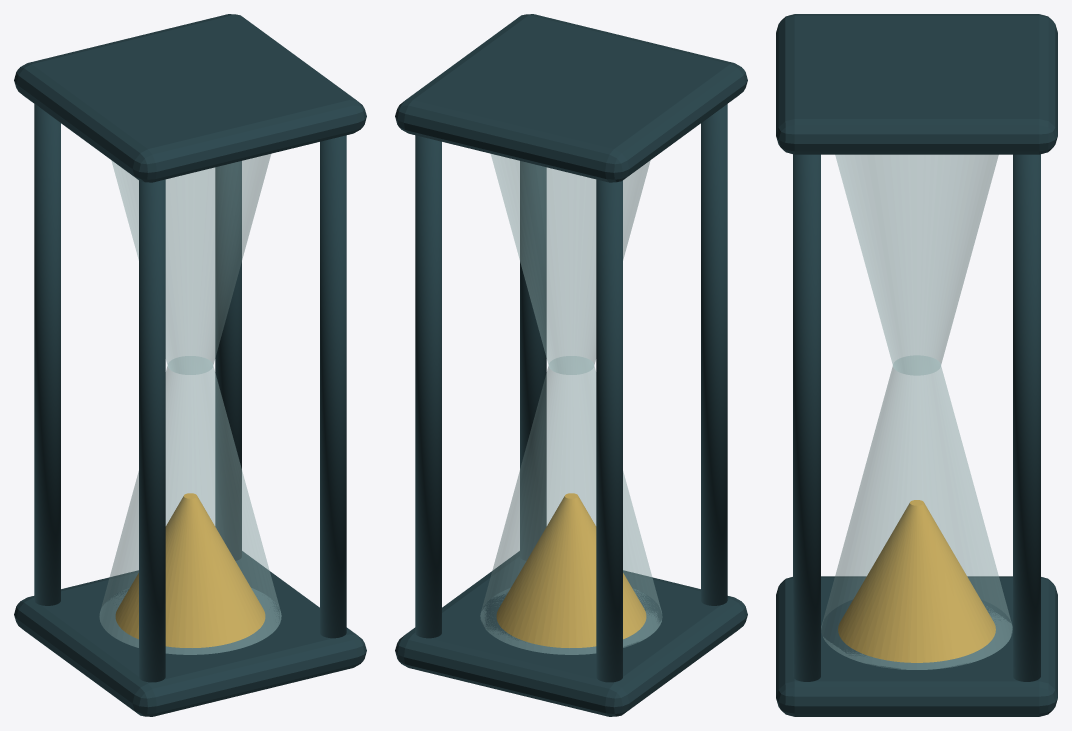
File: timer_3min.glb
3 renders of one model, left to right at view 1: azimuth 30°, elevation 25°; view 2: azimuth 150°, elevation 25°; view 3: azimuth 270°, elevation 25°, orthographic. The views are drawn at different scales.
Parts seen in each view (by area): view 1: timer_top, timer_glass_lower, timer_bottom, timer_glass_upper, timer_post_-1_-1, timer_post_1_-1, timer_post_-1_1, timer_sand, timer_post_1_1; view 2: timer_top, timer_glass_lower, timer_bottom, timer_glass_upper, timer_post_-1_1, timer_post_1_1, timer_post_-1_-1, timer_sand, timer_post_1_-1; view 3: timer_top, timer_glass_lower, timer_glass_upper, timer_bottom, timer_sand, timer_post_1_-1, timer_post_1_1.
Boxes of the visible parts, box(x1,y1,x2,y2) form: timer_top: box(14, 14, 366, 182); timer_glass_lower: box(99, 356, 281, 654); timer_bottom: box(14, 551, 366, 716); timer_glass_upper: box(111, 154, 270, 374); timer_post_-1_-1: box(139, 179, 165, 682); timer_post_1_-1: box(320, 135, 346, 638); timer_post_-1_1: box(34, 104, 60, 605); timer_sand: box(115, 493, 265, 647); timer_post_1_1: box(215, 161, 241, 560); timer_top: box(395, 14, 747, 182); timer_glass_lower: box(480, 356, 662, 654); timer_bottom: box(395, 551, 747, 716); timer_glass_upper: box(491, 154, 650, 374); timer_post_-1_1: box(596, 179, 622, 682); timer_post_1_1: box(415, 135, 441, 638); timer_post_-1_-1: box(701, 104, 727, 605); timer_sand: box(496, 493, 646, 647); timer_post_1_-1: box(520, 161, 546, 560); timer_top: box(776, 14, 1057, 154); timer_glass_lower: box(821, 355, 1012, 669); timer_glass_upper: box(835, 154, 998, 375); timer_bottom: box(776, 576, 1057, 716); timer_sand: box(838, 500, 995, 662); timer_post_1_-1: box(793, 154, 820, 681); timer_post_1_1: box(1013, 154, 1040, 681).
Bounding box in the file's own units: 0.03 × 0.07 × 0.03.
